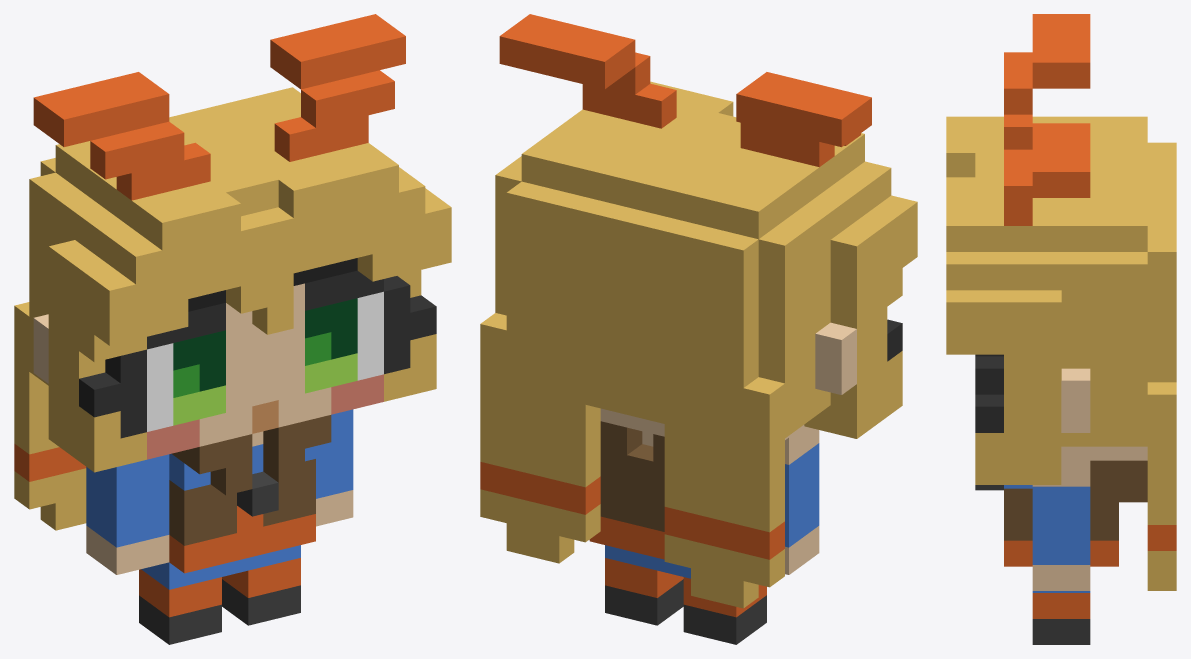
The model's file is Unitychan.fbx.
3 renders of one model, left to right at view 1: azimuth 30°, elevation 25°; view 2: azimuth 150°, elevation 25°; view 3: azimuth 270°, elevation 25°, orthographic. The views are drawn at different scales.
Visible parts, largest first — view 1: head, body, arm_right, leg_right, leg_left, arm_left; view 2: head, body, arm_right, leg_left, leg_right; view 3: head, body, arm_left, leg_left.
Boxes of the visible parts, box(x1,y1,x2,y2) form: head: box(14, 14, 451, 530); body: box(141, 415, 331, 589); arm_right: box(86, 454, 169, 574); leg_right: box(139, 569, 221, 644); leg_left: box(222, 558, 300, 625); arm_left: box(316, 409, 353, 526); head: box(480, 14, 917, 608); body: box(589, 421, 690, 578); arm_right: box(785, 426, 819, 574); leg_left: box(605, 558, 683, 625); leg_right: box(683, 577, 766, 644); head: box(946, 14, 1176, 590); body: box(975, 460, 1147, 592); arm_left: box(1032, 460, 1090, 590); leg_left: box(1032, 593, 1090, 644).
Bounding box in the file's own units: 130 × 200 × 80.
Materials: 1 (1 with a texture image).
